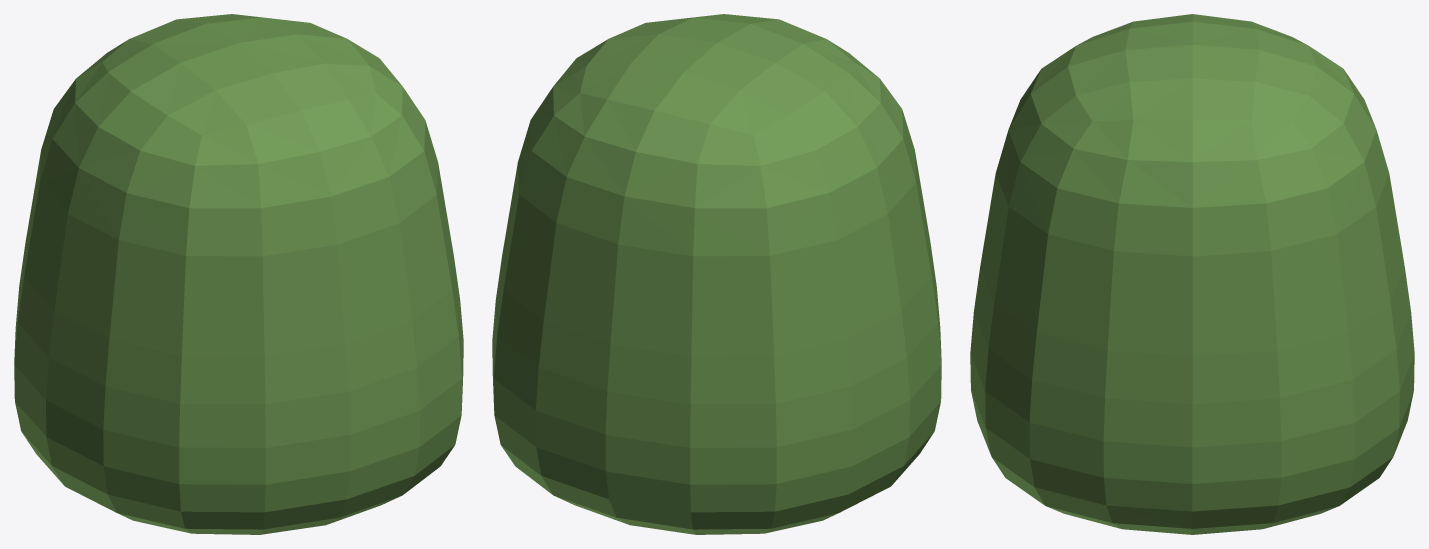
File: produce_cabbage.glb
The picture shows the model from 3 angles, left to right: view 1: azimuth 30°, elevation 25°; view 2: azimuth 150°, elevation 25°; view 3: azimuth 270°, elevation 25°; orthographic projection.
Bounding box in the file's own units: 0.9187 × 1 × 0.9187.
